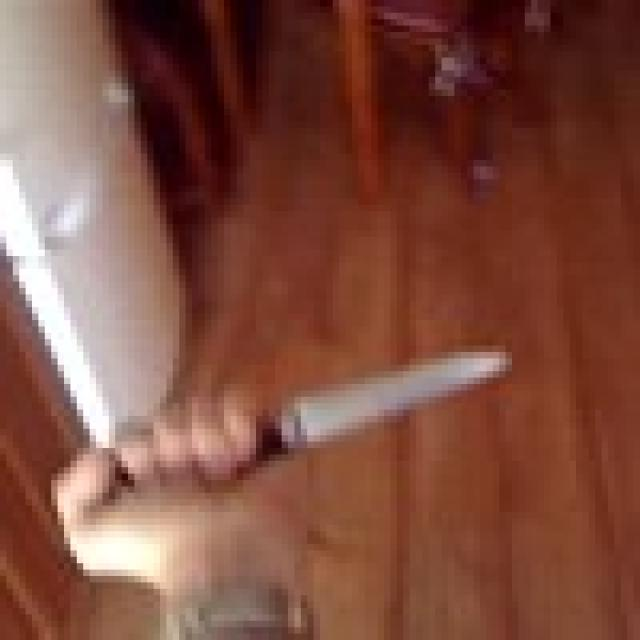Knife: (96, 346, 518, 460)
